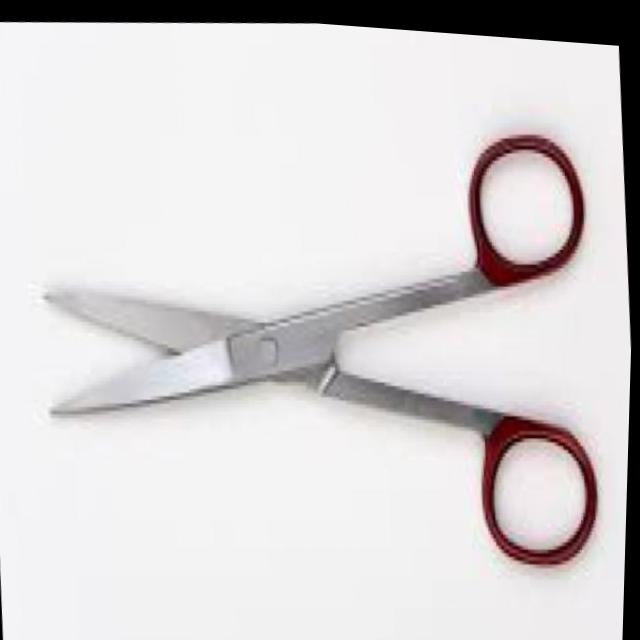scissor: (25, 91, 614, 597)
